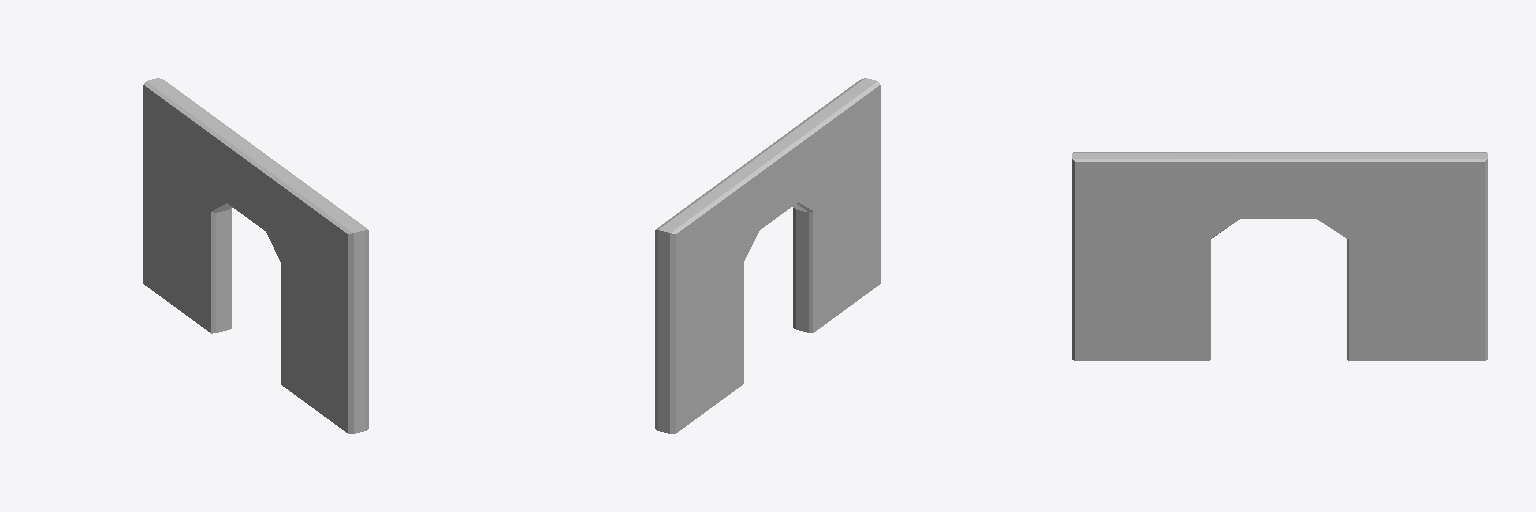
The model's file is doorwaywall.obj.
3 views of the same model, side by side, from view 1: azimuth 30°, elevation 25°; view 2: azimuth 150°, elevation 25°; view 3: azimuth 270°, elevation 25° (orthographic).
Parts seen in each view (by area): view 1: pCube1; view 2: pCube1; view 3: pCube1.
Boxes of the visible parts, <box> form: pCube1: <box>143,78,368,433</box>; pCube1: <box>655,78,880,433</box>; pCube1: <box>1072,152,1487,360</box>.
Size of the model in its own units: 3.65 by 34.27 by 64.24.